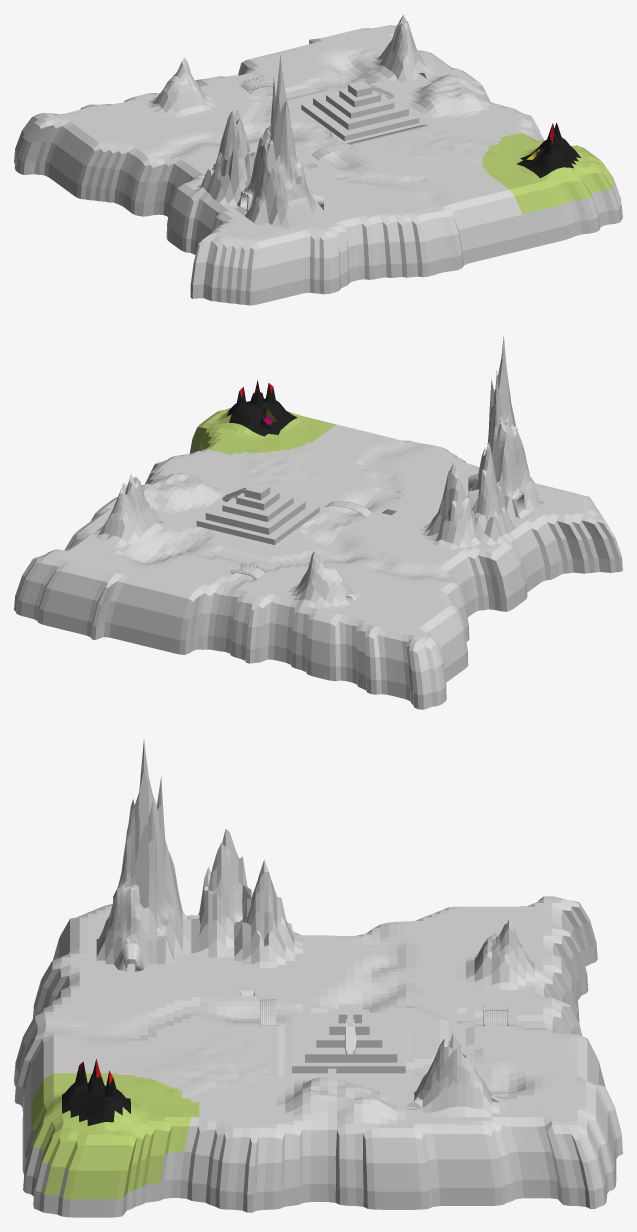
File: map-0011.fbx
The picture shows the model from 3 angles, top to bottom: view 1: azimuth 30°, elevation 25°; view 2: azimuth 150°, elevation 25°; view 3: azimuth 270°, elevation 25°; orthographic projection. The views are drawn at different scales.
Parts seen in each view (by area): view 1: Grid.001; view 2: Grid.001; view 3: Grid.001.
Boxes of the visible parts, x1,y1,x2,y2 form: Grid.001: [14, 14, 622, 305]; Grid.001: [14, 335, 622, 709]; Grid.001: [14, 739, 622, 1217].
Bounding box in the file's own units: 16756 × 8293 × 16201.
